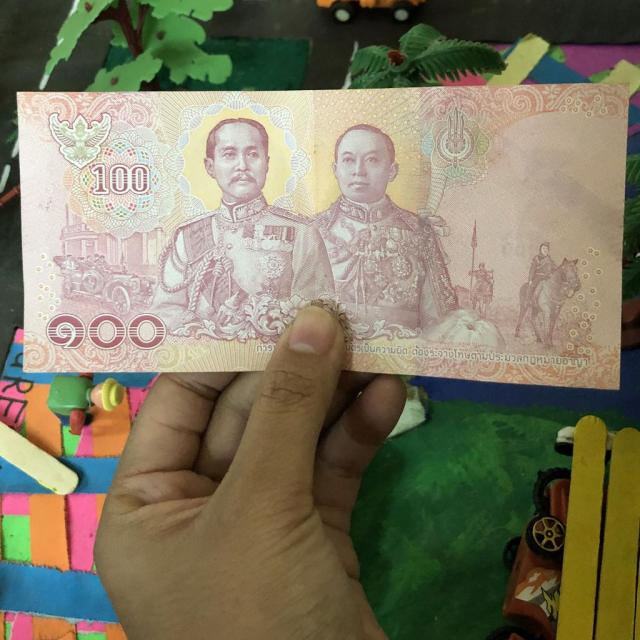THAI100: (19, 84, 633, 389)
